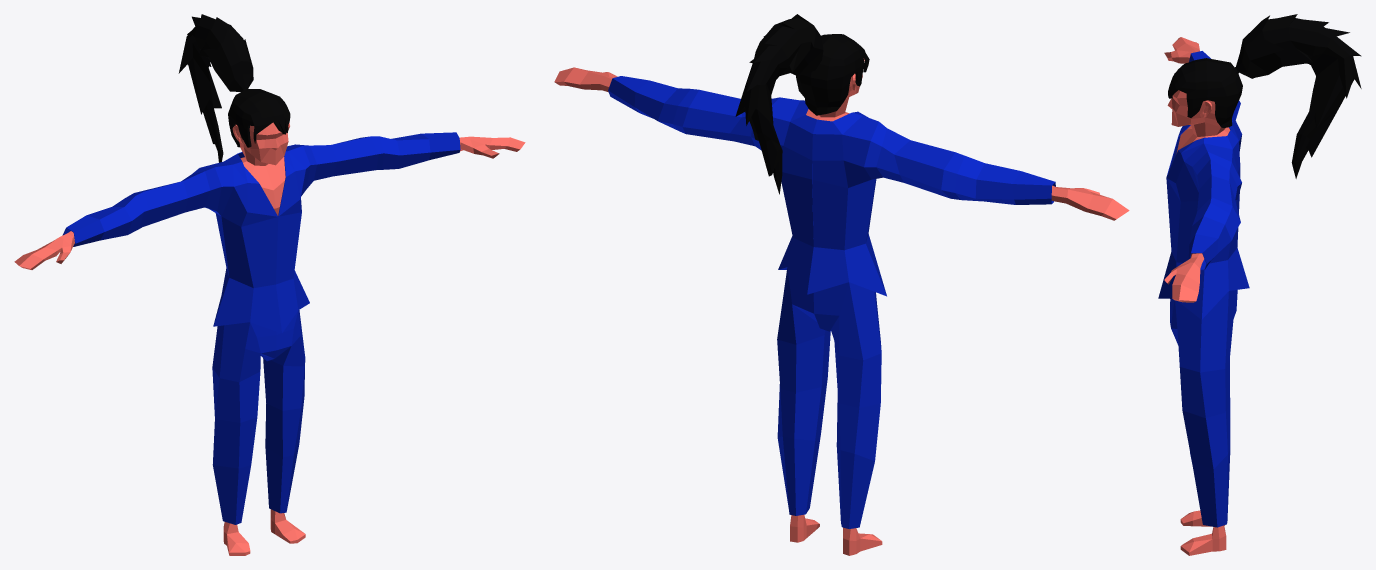
File: Shallo_early_v05.obj
3 views of the same model, side by side, from view 1: azimuth 30°, elevation 25°; view 2: azimuth 150°, elevation 25°; view 3: azimuth 270°, elevation 25° (orthographic). The views are drawn at different scales.
Parts seen in each view (by area): view 1: Clothing, Base, HairTail, Hair; view 2: Clothing, HairTail, Base, Hair; view 3: Clothing, HairTail, Base, Hair.
Boxes of the visible parts, left/top/right/bottom form: Clothing: left=62, top=132, right=460, bottom=524; Base: left=14, top=122, right=525, bottom=555; HairTail: left=178, top=14, right=253, bottom=162; Hair: left=228, top=88, right=290, bottom=147; Clothing: left=608, top=76, right=1055, bottom=528; HairTail: left=735, top=14, right=823, bottom=194; Base: left=554, top=58, right=1129, bottom=555; Hair: left=796, top=34, right=869, bottom=115; Clothing: left=1158, top=51, right=1249, bottom=527; HairTail: left=1234, top=14, right=1361, bottom=178; Base: left=1164, top=37, right=1230, bottom=555; Hair: left=1168, top=58, right=1242, bottom=127.
Size of the model in its own units: 2.23 by 2.07 by 0.7313.
